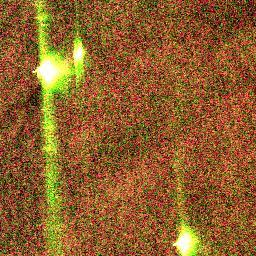Ship: (30, 54, 66, 85), (174, 222, 201, 255), (70, 35, 88, 71)
